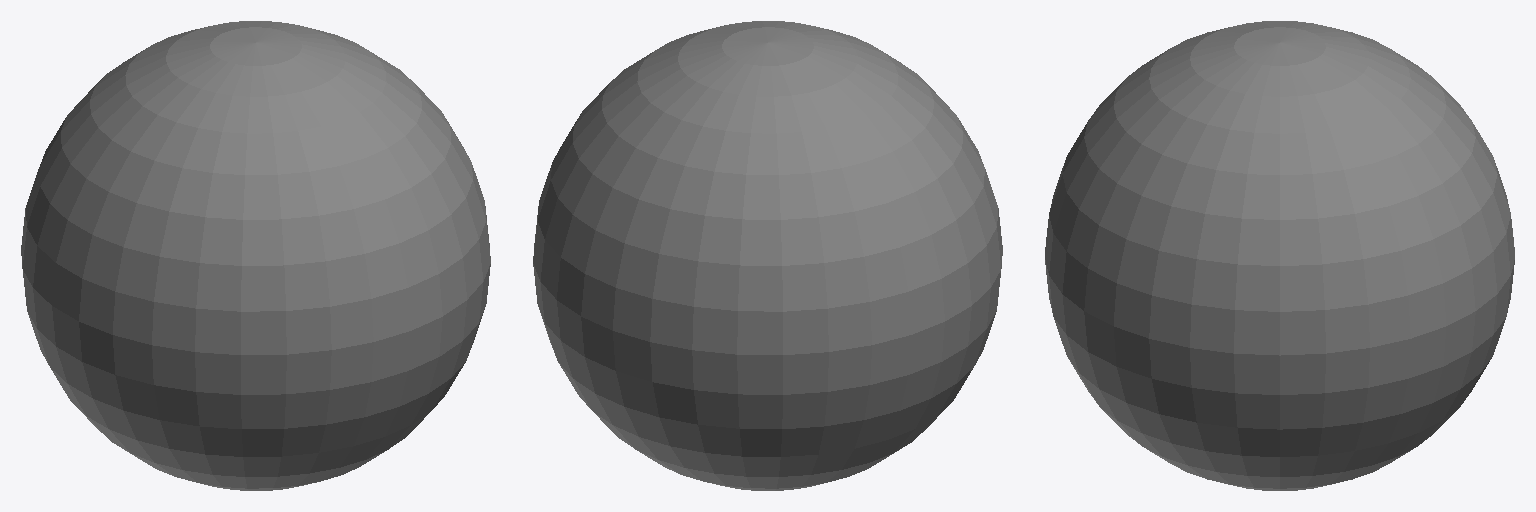
File: Joint.obj
3 views of the same model, side by side, from view 1: azimuth 30°, elevation 25°; view 2: azimuth 150°, elevation 25°; view 3: azimuth 270°, elevation 25° (orthographic).
Parts seen in each view (by area): view 1: Sphere_Sphere.001; view 2: Sphere_Sphere.001; view 3: Sphere_Sphere.001.
Part boxes in pixels (left/top/right/bottom): Sphere_Sphere.001: left=21, top=21, right=490, bottom=490; Sphere_Sphere.001: left=533, top=21, right=1002, bottom=490; Sphere_Sphere.001: left=1045, top=21, right=1514, bottom=490.
Bounding box in the file's own units: 0.4 × 0.4 × 0.4.